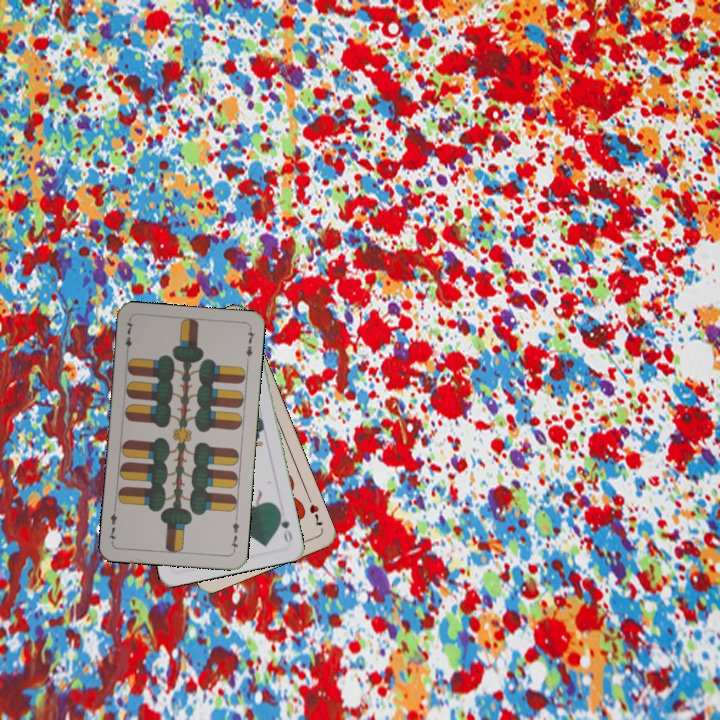E7: (226, 513, 242, 554), (121, 316, 136, 357)
GO: (275, 506, 295, 545)
H7: (304, 493, 325, 528)
